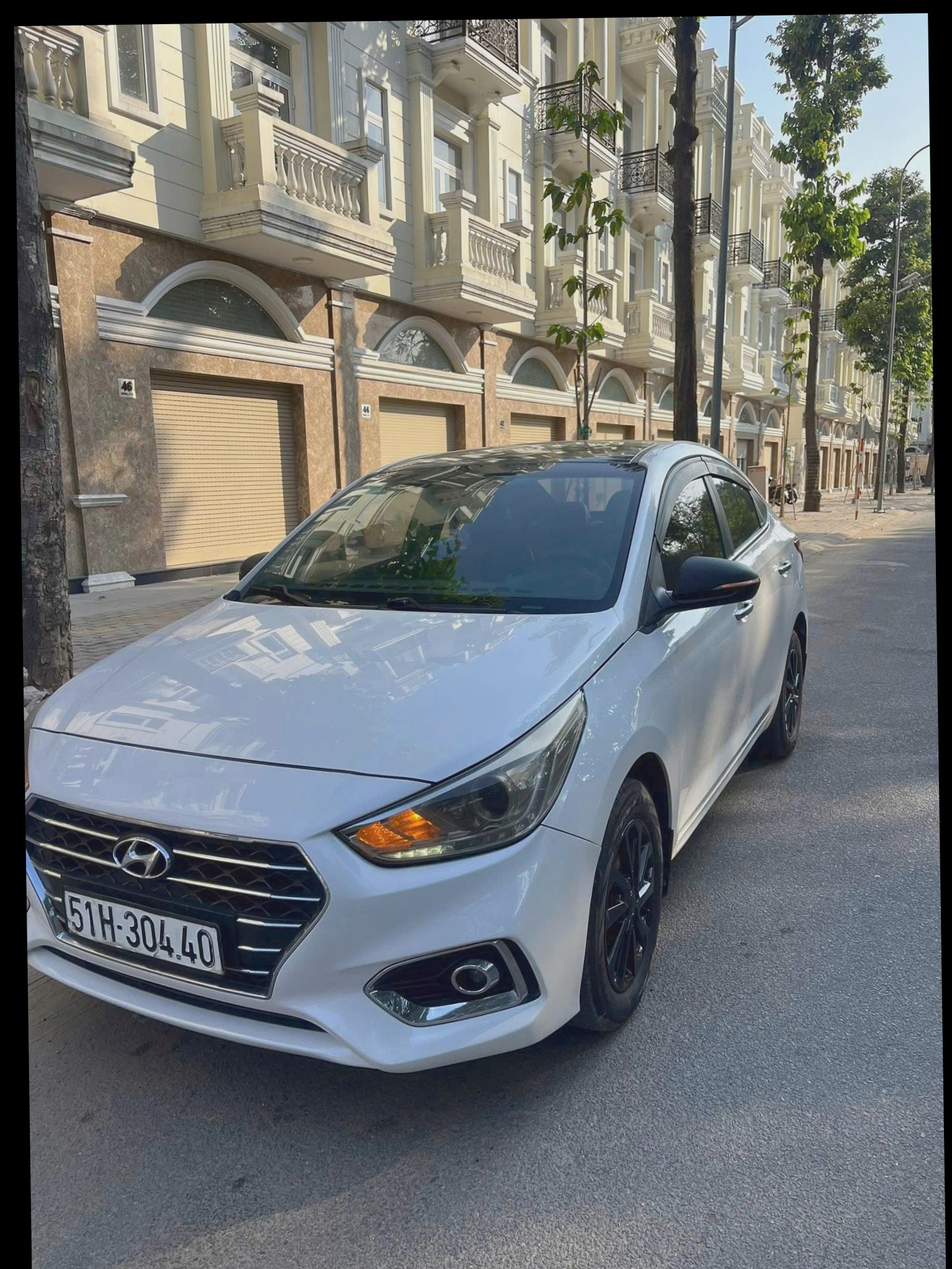Bien-so: (64, 888, 222, 975)
